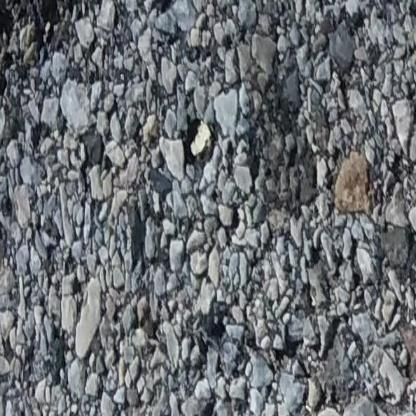Cracks: (0, 0, 120, 92)
